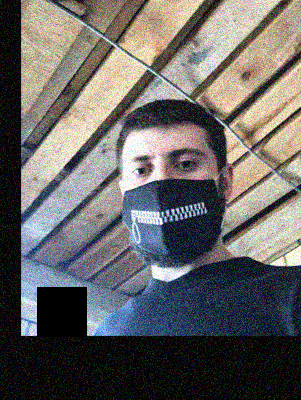with_mask: (120, 139, 220, 266)
